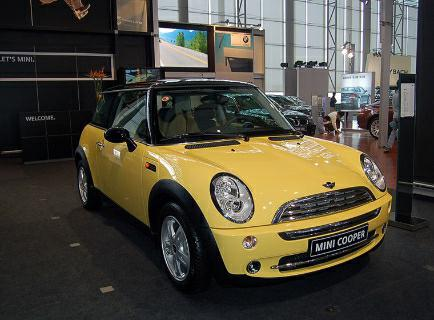MINI: (74, 80, 384, 287)
